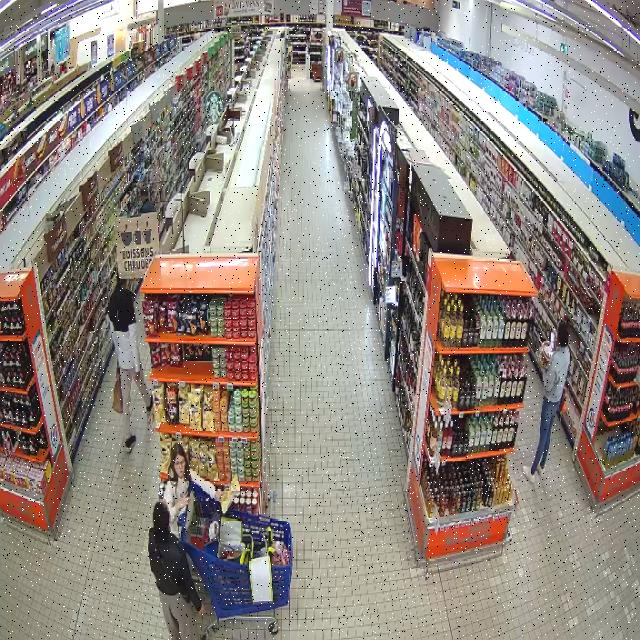article: (220, 475, 241, 514)
bags: (153, 538, 190, 603)
hands: (176, 496, 190, 510), (214, 489, 222, 501), (198, 604, 204, 615), (134, 371, 140, 381)
person: (148, 500, 203, 639), (523, 321, 570, 482), (108, 279, 151, 451), (164, 442, 222, 537)
